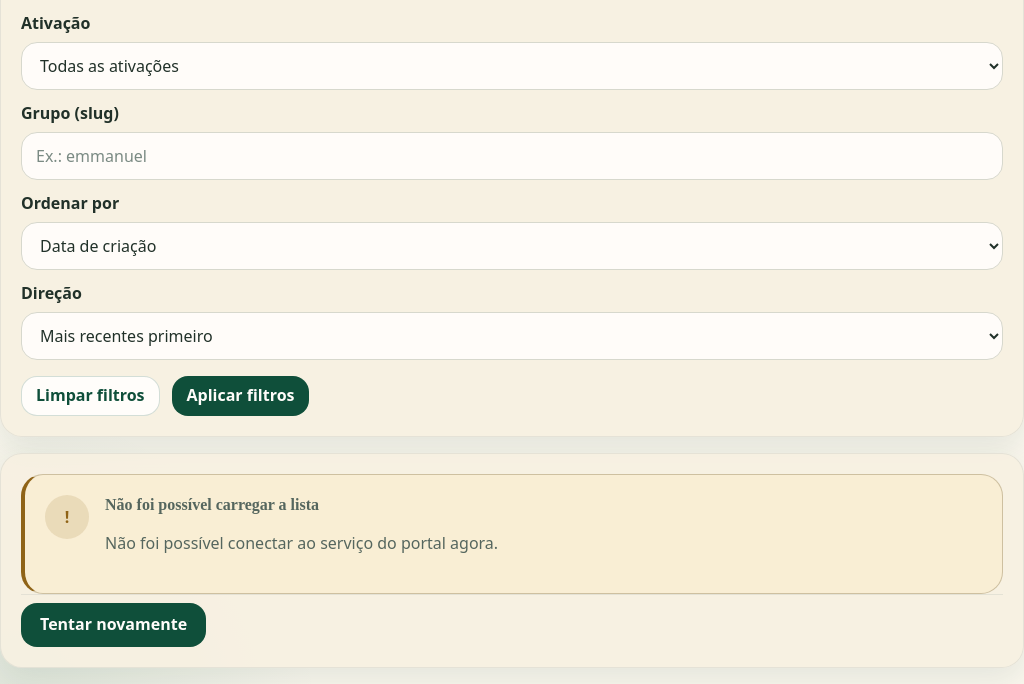
it: AdminUsersPage › renderiza erro com retry seguro
(page scrolled)
Expected: the message is shown, [21,474,1003,594]
Expected: the text "Não foi possível conectar ao serviço do portal agora." is shown, [105,532,498,554]
Click the button "Tentar novamente" at (114, 625), box [21,603,206,647]
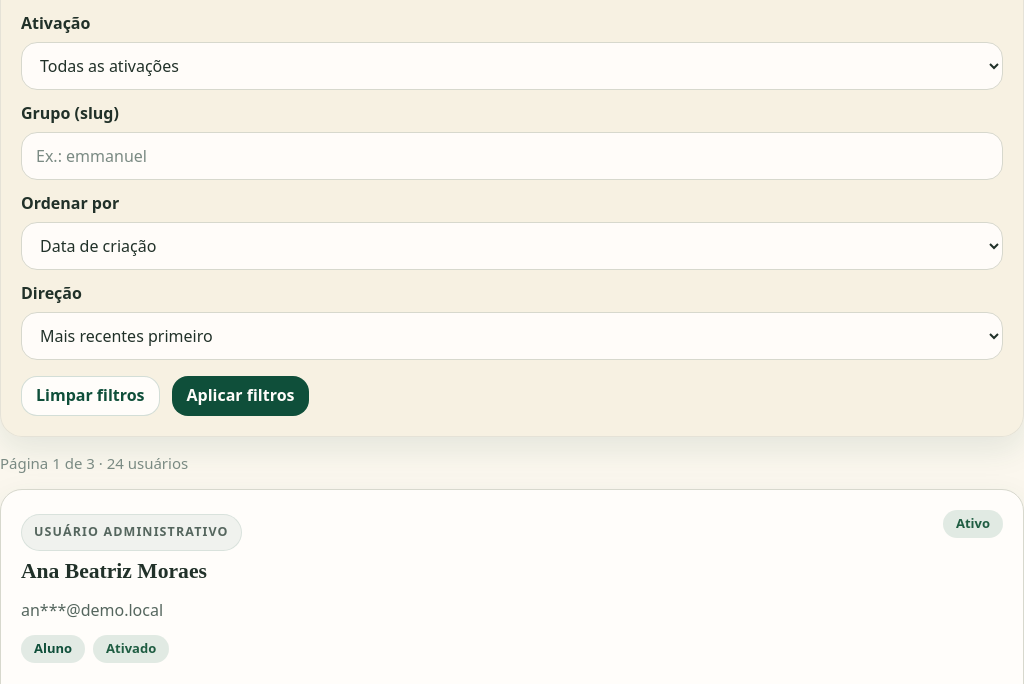
Result: the heading "Ana Beatriz Moraes" is shown at [21,559,207,583]
